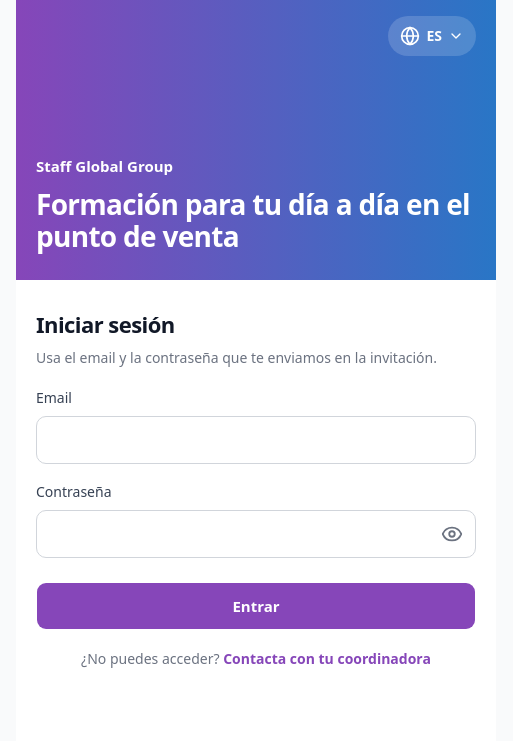
Test: login › valida los campos antes de enviar
Click the button "Entrar".
click(256, 606)  # box [36, 582, 476, 630]
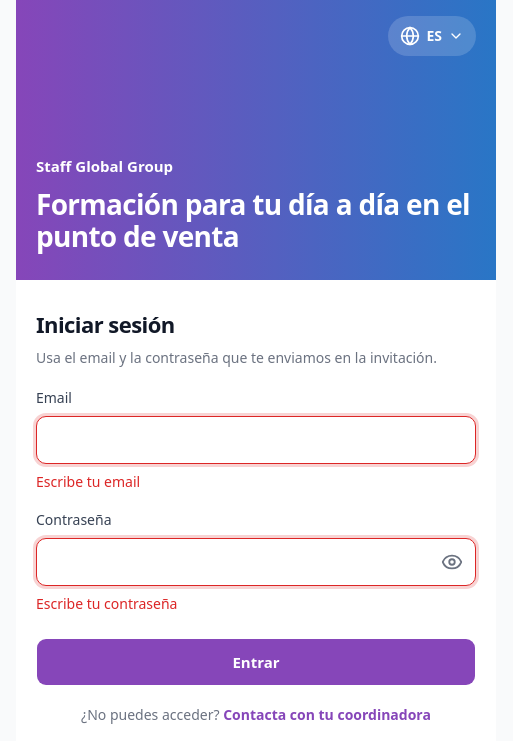
Check: the text "Escribe tu email" is shown, box [36, 472, 140, 491]
Check: the text "Escribe tu contraseña" is shown, box [36, 594, 178, 613]
